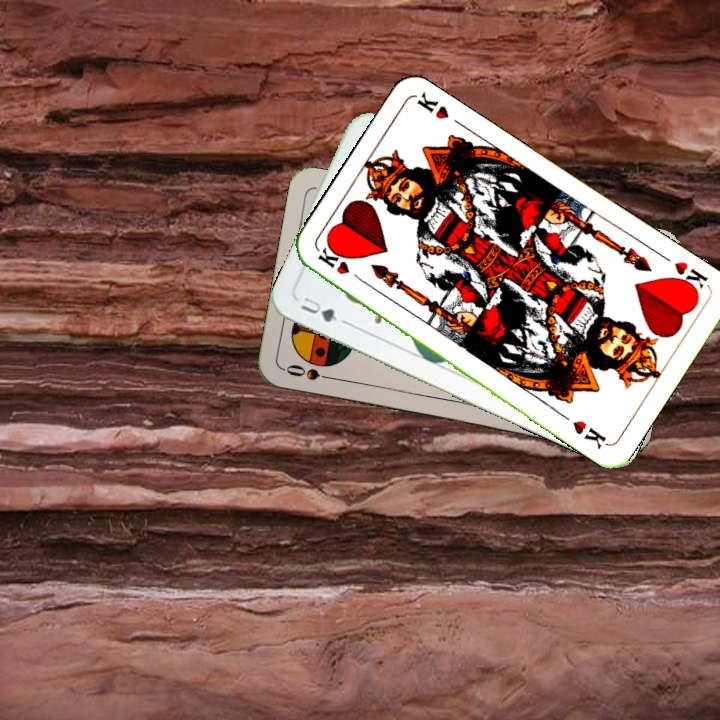GU: (296, 293, 349, 327)
HK: (313, 243, 367, 286), (668, 257, 711, 298)
SO: (282, 360, 340, 383)
